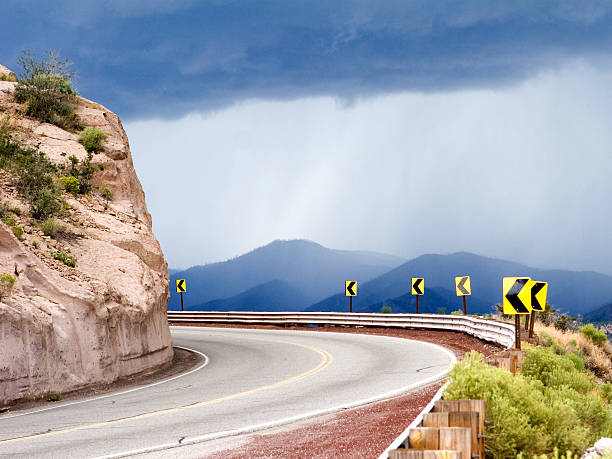leftTrun: (157, 293, 427, 429)
